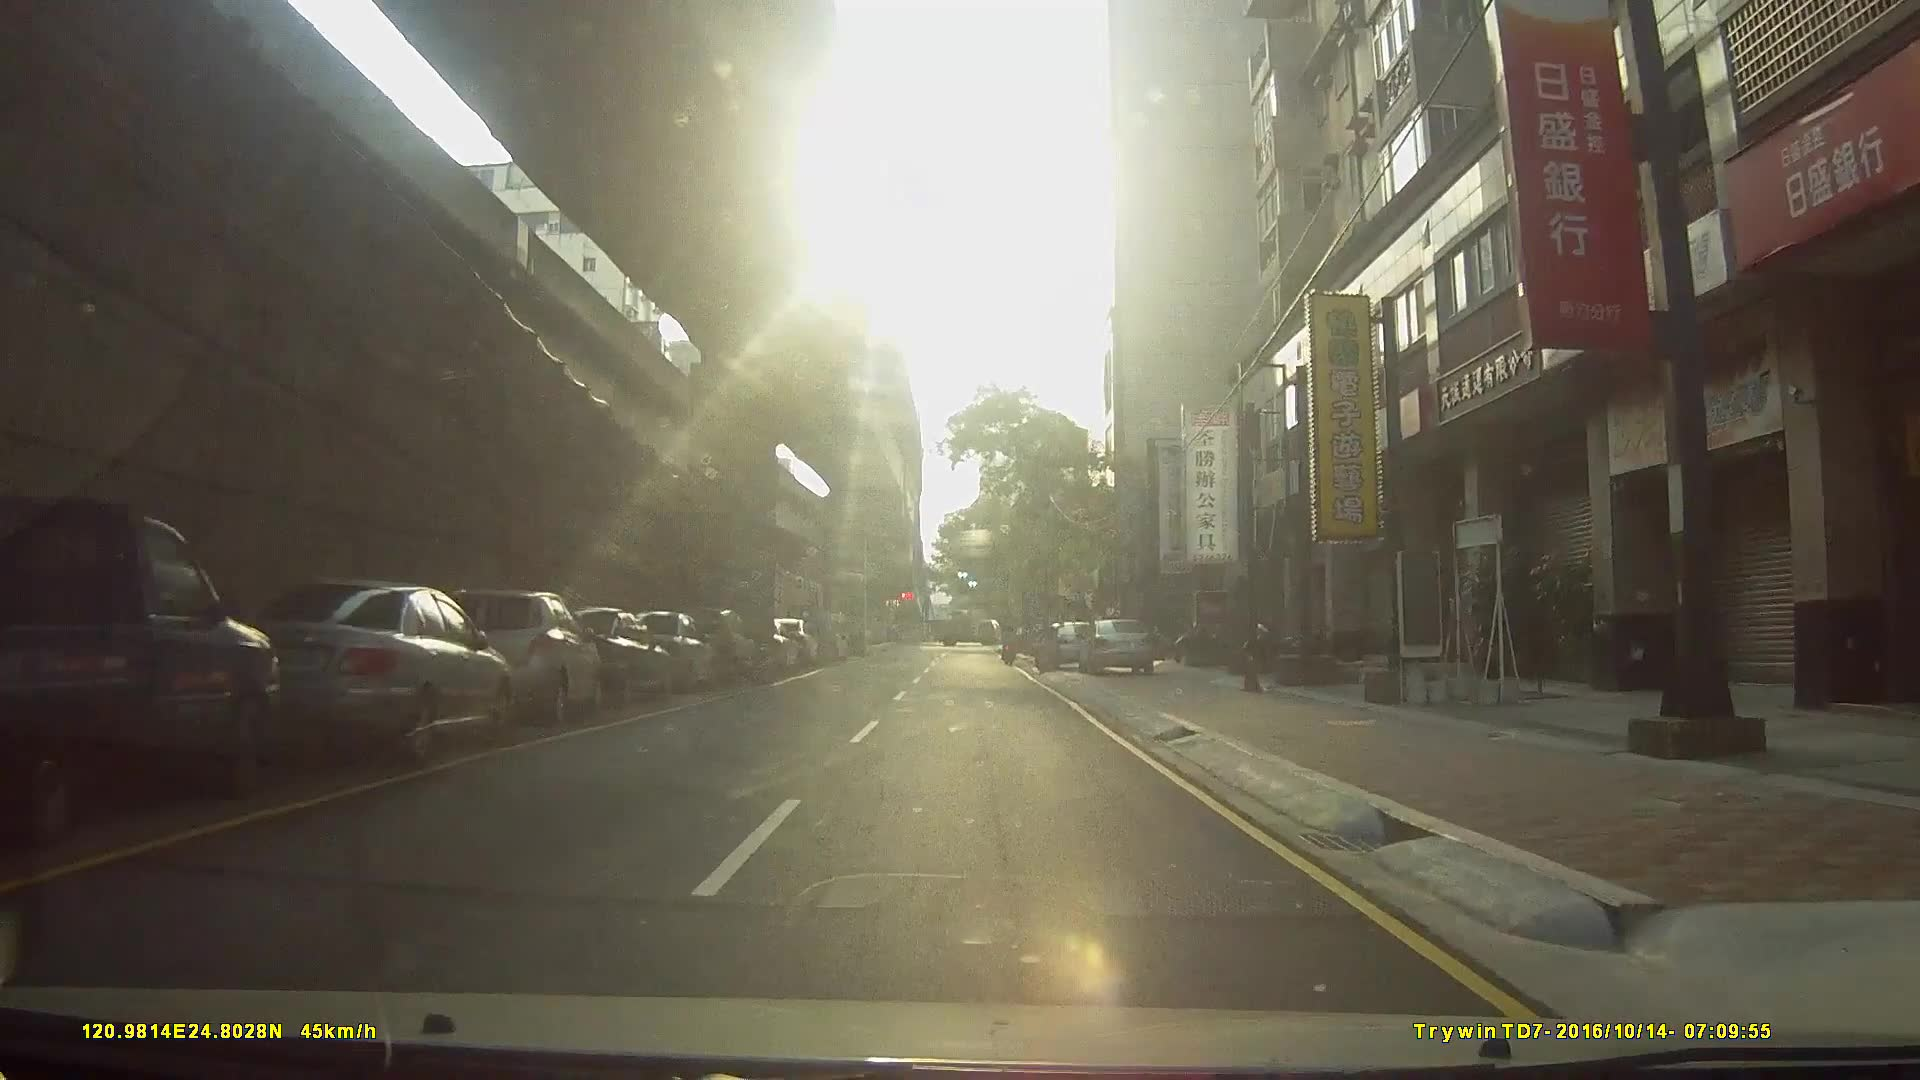vehicle: (1, 506, 282, 849), (190, 574, 505, 774), (418, 585, 597, 732), (539, 607, 669, 707), (625, 611, 713, 691), (676, 605, 760, 686), (1075, 617, 1159, 673), (781, 597, 837, 669), (1033, 618, 1095, 673), (926, 611, 1006, 647)
